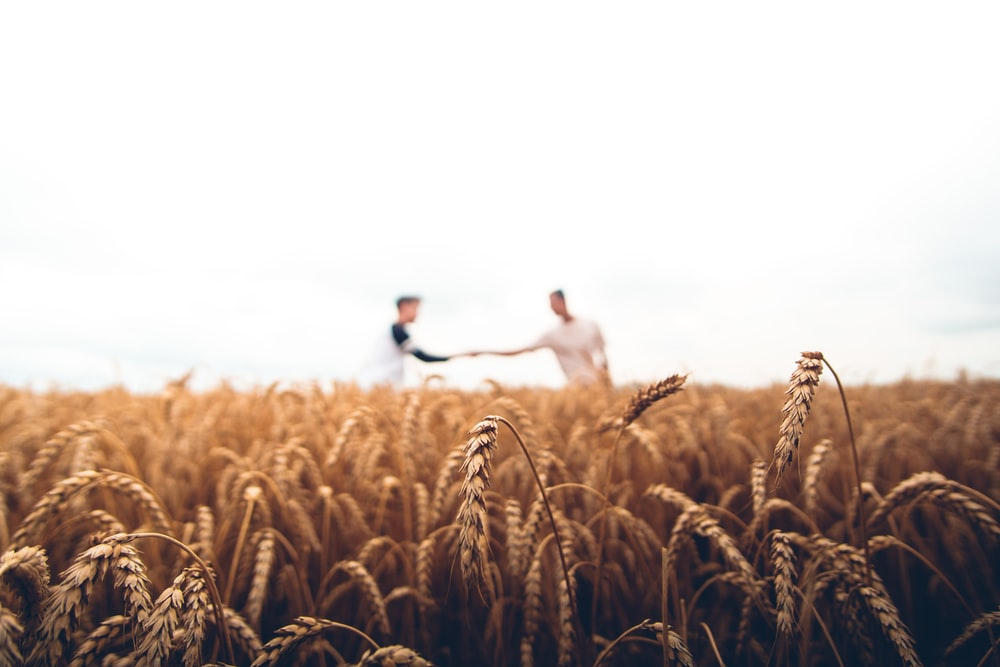face: (537, 280, 578, 323), (391, 289, 427, 328)
